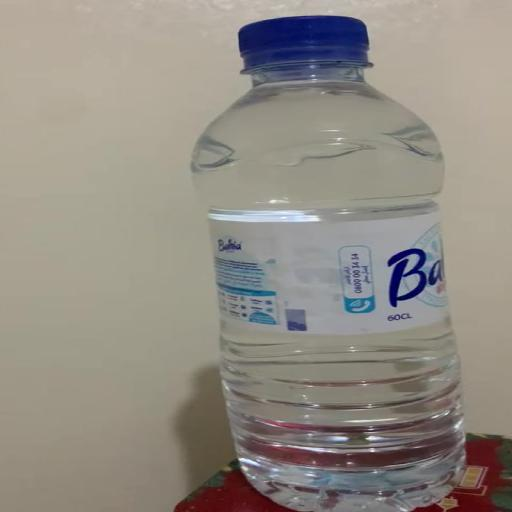bouteille conformite: (203, 16, 463, 511)
